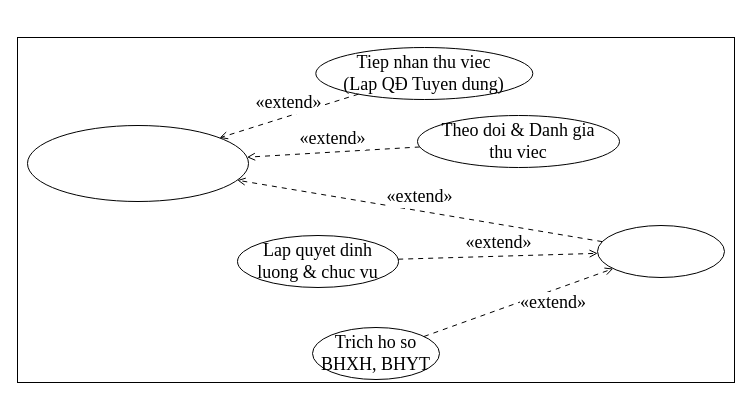
Some shapes in this 752 by 400 pixel diagram are drawn without their labels. The shapes that lost their labels are listed below. From the top down, each one's centre as x and y in pixels, then its label:
At (137,163): "Quan ly tuyen dung va thu viec (from Use Case View)".
At (660,251): "Ky hop dong chinh thuc".
